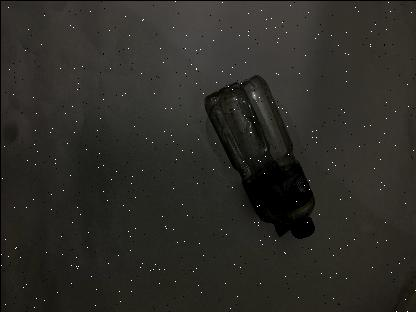Plastic Bottle: (217, 74, 314, 238)
